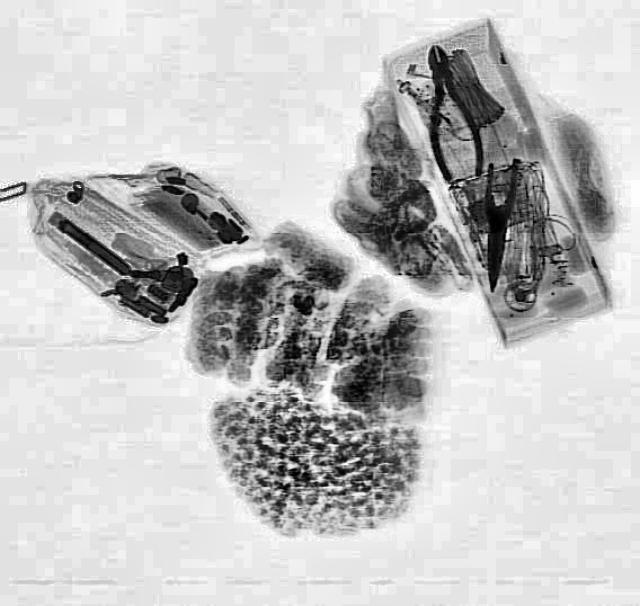Pliers: (408, 40, 488, 182), (474, 157, 520, 291)
